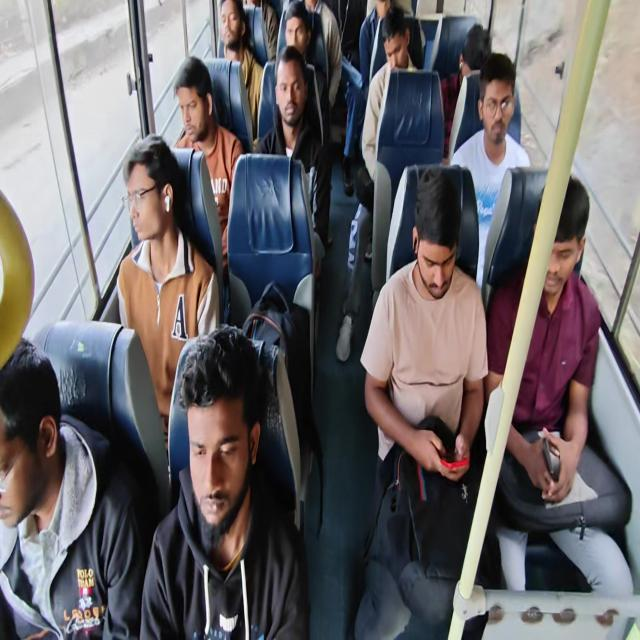person: (355, 168, 498, 638), (484, 173, 634, 597), (139, 324, 310, 638), (0, 337, 145, 638), (116, 134, 220, 462), (335, 5, 419, 362), (450, 51, 531, 288), (254, 45, 331, 276), (172, 55, 245, 266), (360, 5, 419, 181), (275, 0, 328, 146), (441, 23, 491, 155), (218, 0, 264, 138), (303, 0, 342, 108), (358, 0, 394, 92)
